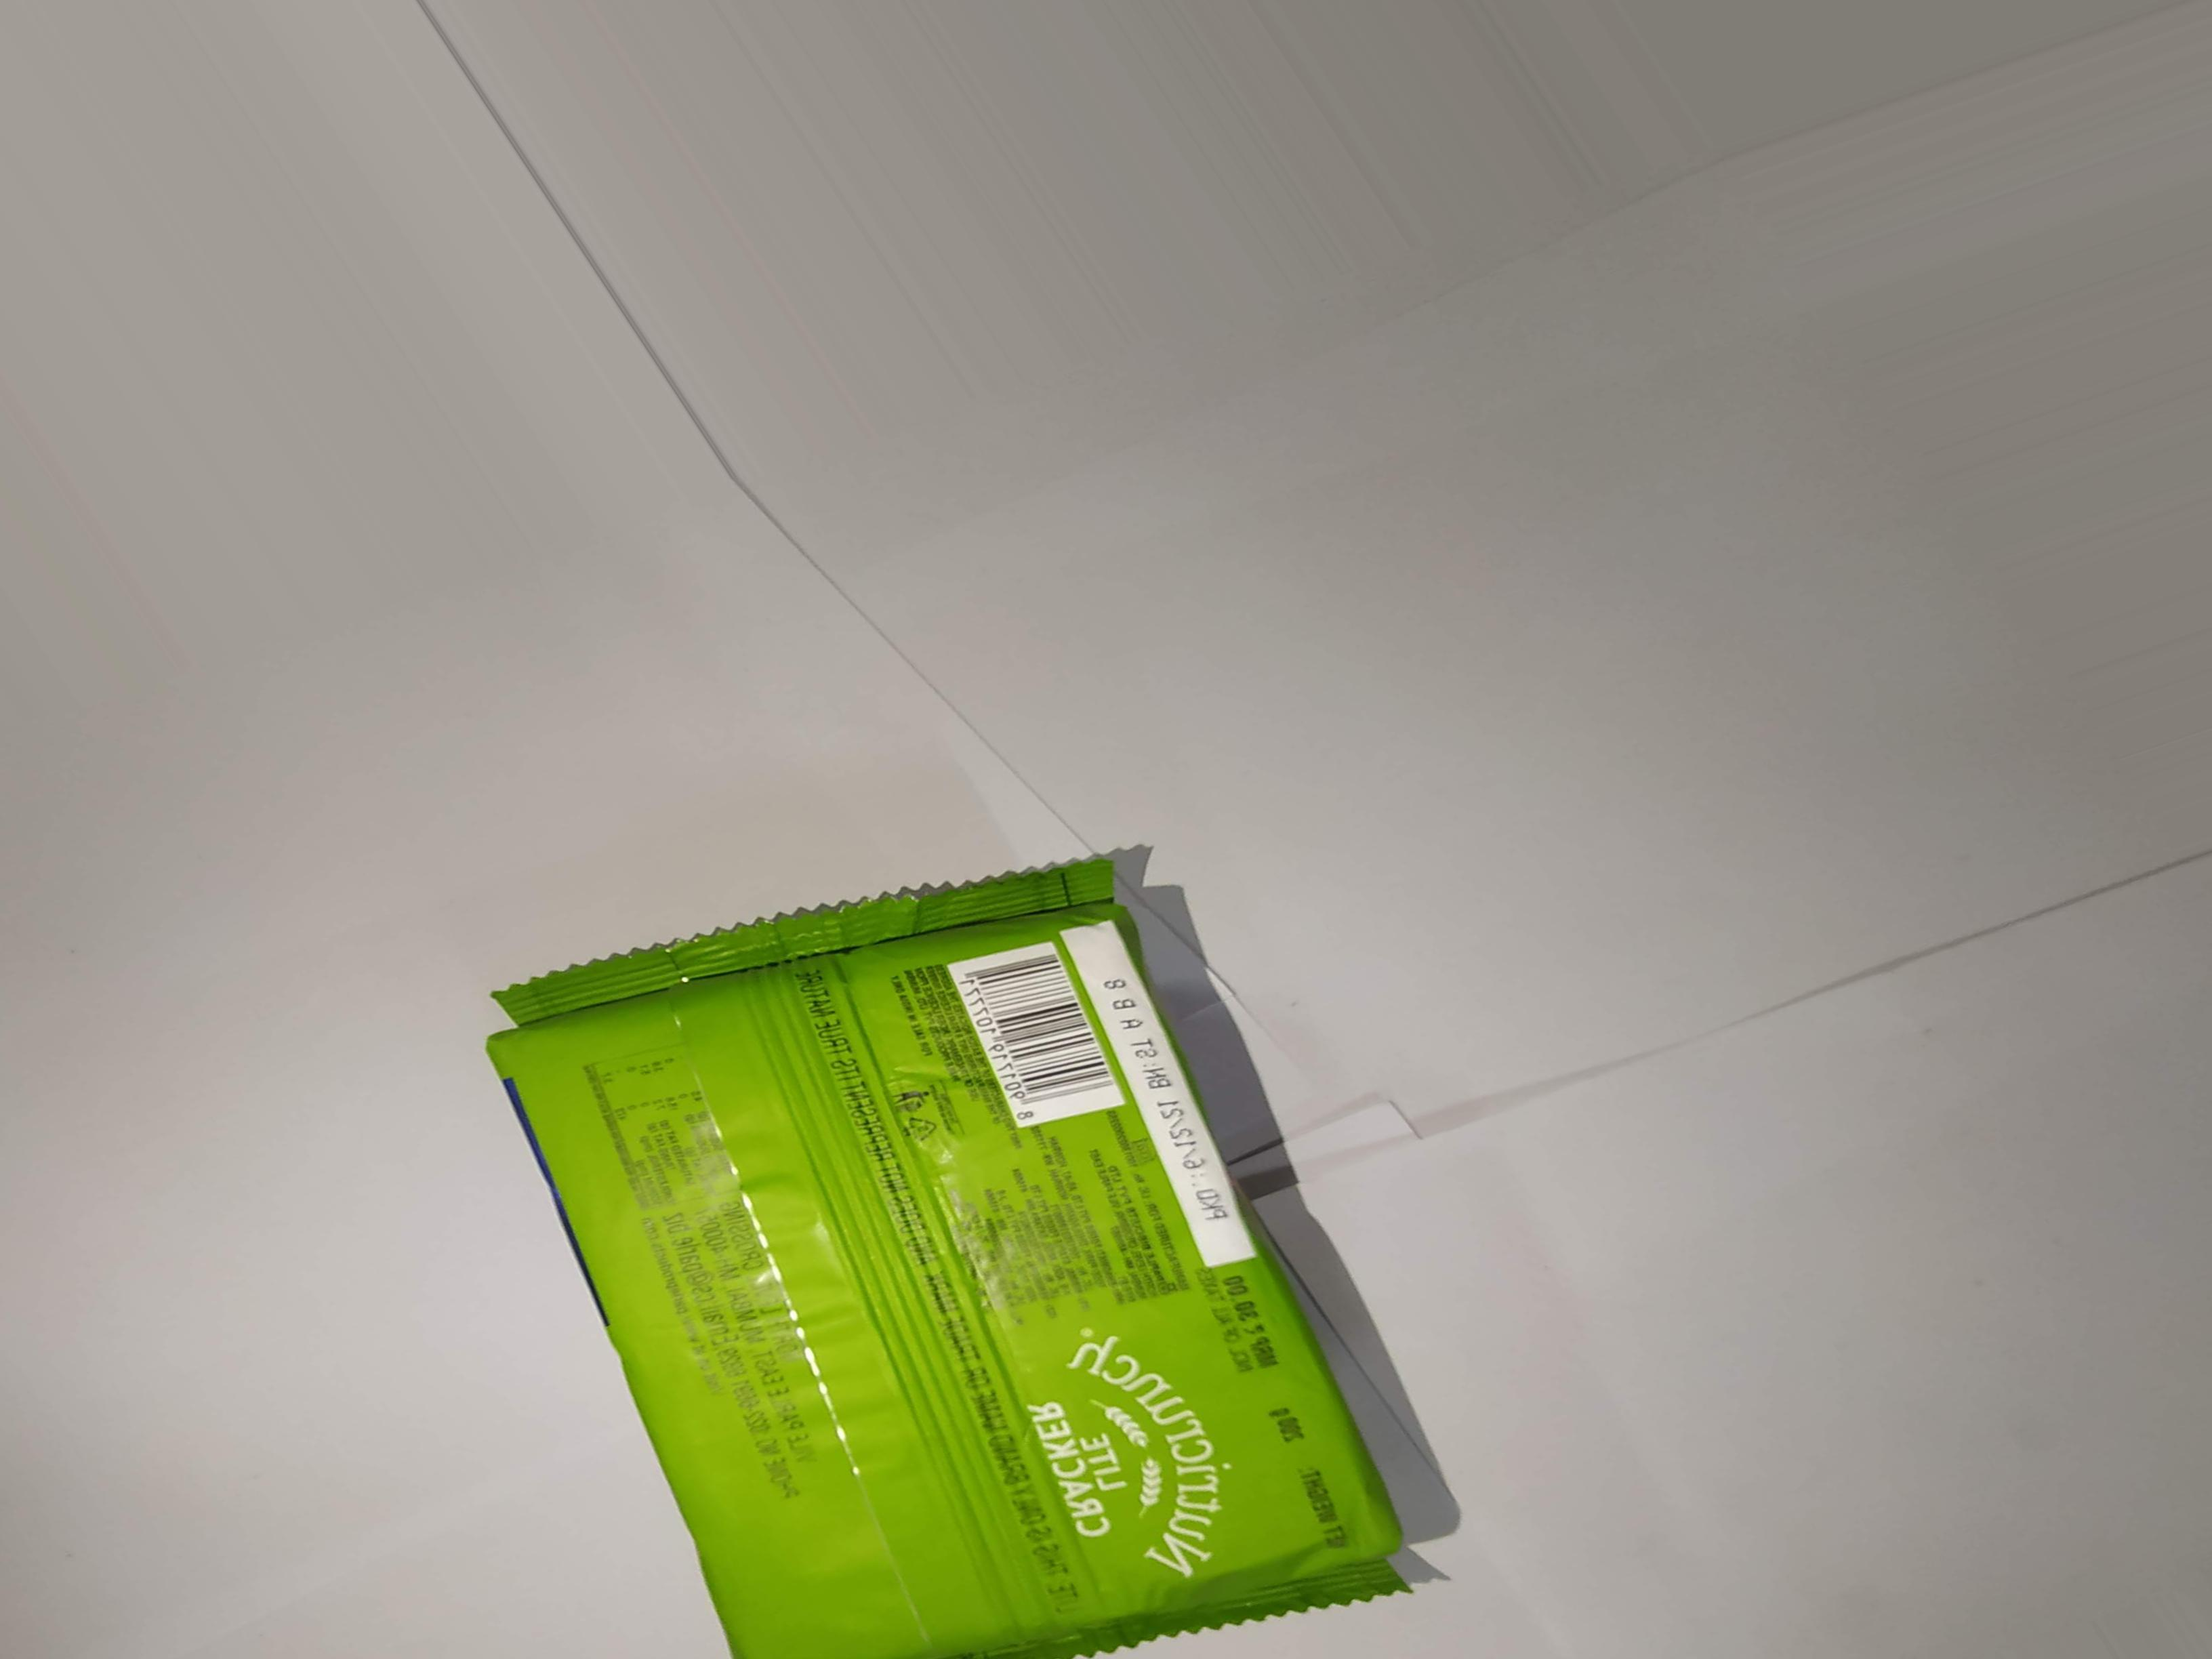Bar_code: (944, 939, 1136, 1147)
Item: (399, 781, 1536, 1659)
